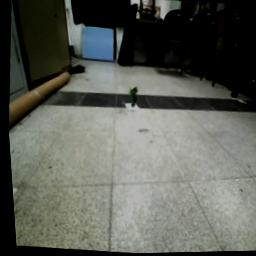wild: (126, 87, 139, 111)
